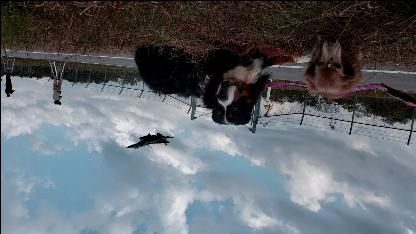F117: (124, 133, 172, 149)
